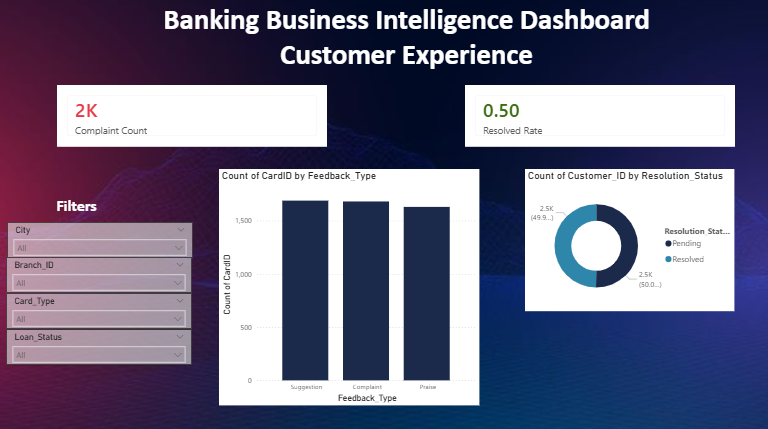

The page's visual inventory and layout, read from the dashboard file:
{"tool":"powerbi","page":{"name":"Customer Experience","canvas":[1280,720],"ordinal":5},"visuals":[{"type":"cardVisual","fields":{"Data":["Banking_Capstone_Cleaned_Dataset.Complaint Count"]},"box":[94.3,144.3,450,102.9],"z":0},{"type":"slicer","fields":{"Values":["Banking_Capstone_Cleaned_Dataset.City"]},"box":[10.8,372.7,310,60],"z":1000},{"type":"slicer","fields":{"Values":["Banking_Capstone_Cleaned_Dataset.Branch_ID"]},"box":[10.6,432.4,310,60],"z":2000},{"type":"slicer","fields":{"Values":["Banking_Capstone_Cleaned_Dataset.Loan_Status"]},"box":[10.4,552.5,310,60.5],"z":3000},{"type":"textbox","box":[10.1,325.4,234.7,47.5],"z":4000},{"type":"textbox","box":[217.4,0,921.6,144],"z":5000},{"type":"slicer","fields":{"Values":["Banking_Capstone_Cleaned_Dataset.Card_Type"]},"box":[10.1,492.2,310,60.5],"z":6000},{"type":"cardVisual","fields":{"Data":["Banking_Capstone_Cleaned_Dataset.Resolved Rate"]},"box":[774.3,144.3,450,102.9],"z":8000},{"type":"clusteredColumnChart","fields":{"Y":["CountNonNull(Banking_Capstone_Cleaned_Dataset.CardID)"],"Category":["Banking_Capstone_Cleaned_Dataset.Feedback_Type"]},"box":[364.3,285.7,434.3,394.3],"z":10000},{"type":"donutChart","fields":{"Y":["CountNonNull(Banking_Capstone_Cleaned_Dataset.Customer_ID)"],"Category":["Banking_Capstone_Cleaned_Dataset.Resolution_Status"]},"box":[875.7,285.7,348.6,237.1],"z":12000}]}

Visuals, with their boxes in screenshot pixels (x1, y1, x2, y2), scaled from the page's 1280x720 canvas onto the 768x429 screenshot:
cardVisual - Banking_Capstone_Cleaned_Dataset.Complaint Count: (57,86,327,147)
slicer - Banking_Capstone_Cleaned_Dataset.City: (6,222,192,258)
slicer - Banking_Capstone_Cleaned_Dataset.Branch_ID: (6,258,192,293)
slicer - Banking_Capstone_Cleaned_Dataset.Loan_Status: (6,329,192,365)
textbox: (6,194,147,222)
textbox: (130,0,683,86)
slicer - Banking_Capstone_Cleaned_Dataset.Card_Type: (6,293,192,329)
cardVisual - Banking_Capstone_Cleaned_Dataset.Resolved Rate: (465,86,735,147)
clusteredColumnChart - CountNonNull(Banking_Capstone_Cleaned_Dataset.CardID) x Banking_Capstone_Cleaned_Dataset.Feedback_Type: (219,170,479,405)
donutChart - CountNonNull(Banking_Capstone_Cleaned_Dataset.Customer_ID) x Banking_Capstone_Cleaned_Dataset.Resolution_Status: (525,170,735,312)
